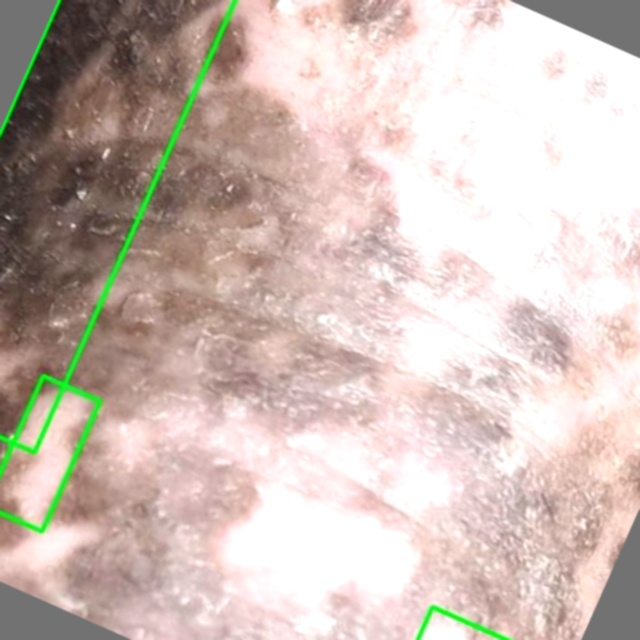Eczema: (0, 376, 99, 531)
